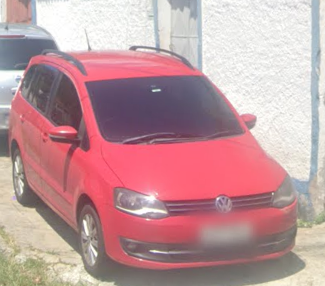car: (8, 49, 299, 277)
